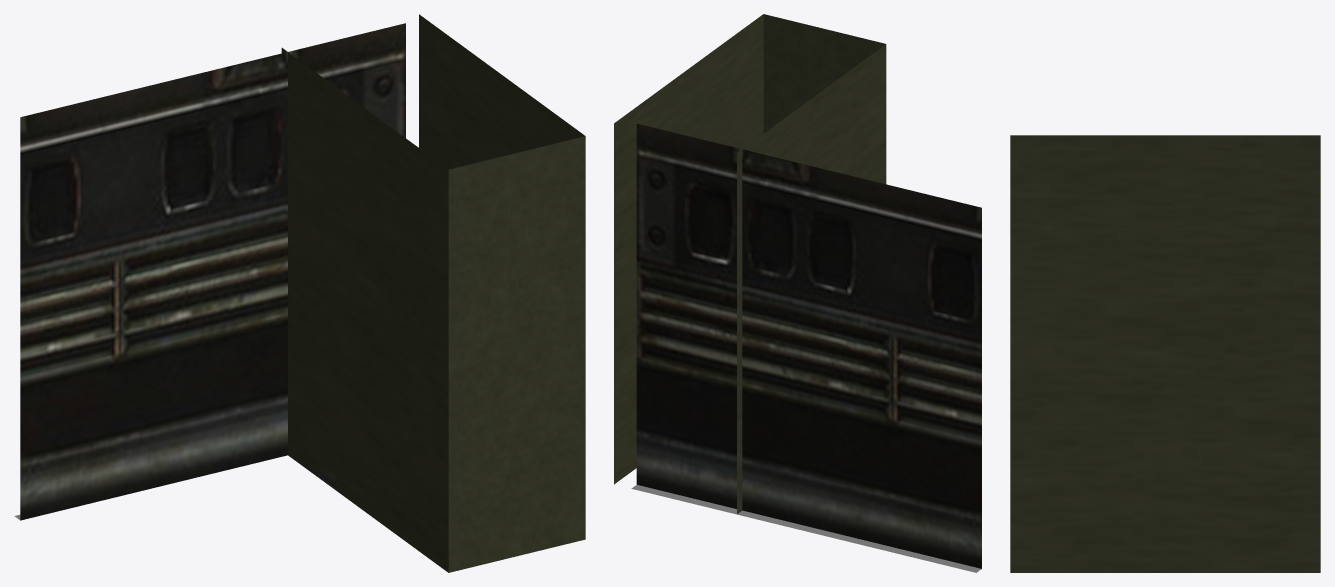
Rendered from CubeBaseFrontDoorBR.fbx.
3 renders of one model, left to right at view 1: azimuth 30°, elevation 25°; view 2: azimuth 150°, elevation 25°; view 3: azimuth 270°, elevation 25°, orthographic. The views are drawn at different scales.
Visible parts, largest first — view 1: polySurface2, pCube10; view 2: pCube10, polySurface2; view 3: polySurface2.
Part boxes in pixels (box(x1,y1,x2,y2)): polySurface2: box(281, 14, 585, 572); pCube10: box(14, 23, 405, 520); pCube10: box(631, 123, 981, 572); polySurface2: box(614, 14, 886, 513); polySurface2: box(1010, 135, 1320, 572).
Bounding box in the file's own units: 1.05 × 1 × 0.75.
2 materials, 2 textured.
